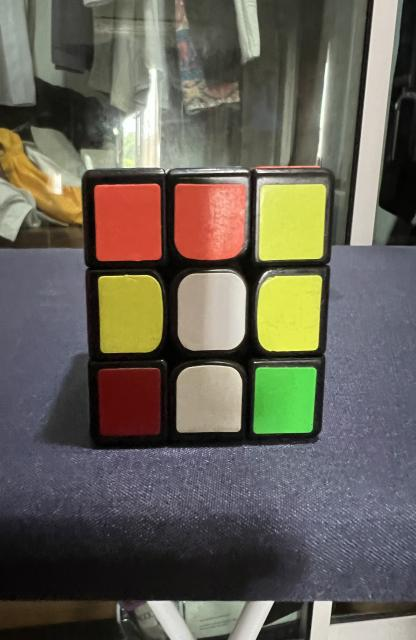Green: (253, 368, 316, 434)
Orange: (174, 184, 246, 260), (94, 184, 161, 261)
Red: (98, 368, 160, 436)
White: (178, 271, 246, 351), (177, 365, 243, 432)
Yellow: (98, 275, 164, 354), (259, 184, 326, 261), (257, 275, 322, 351)
